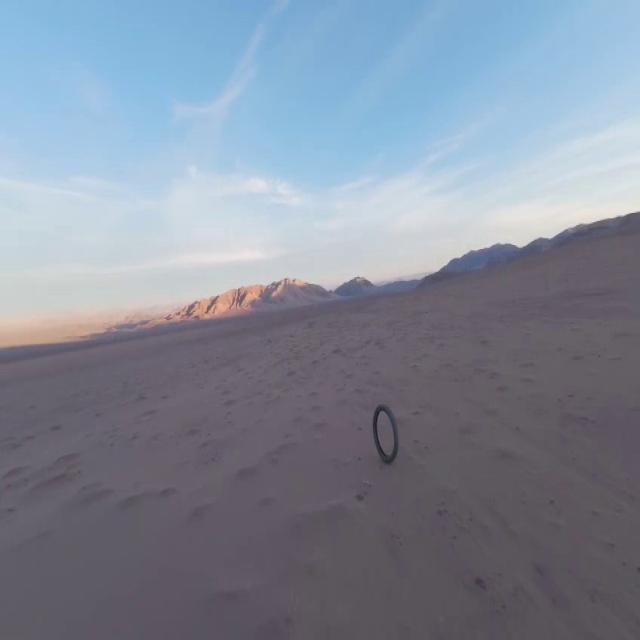Tire: (373, 404, 398, 462)
